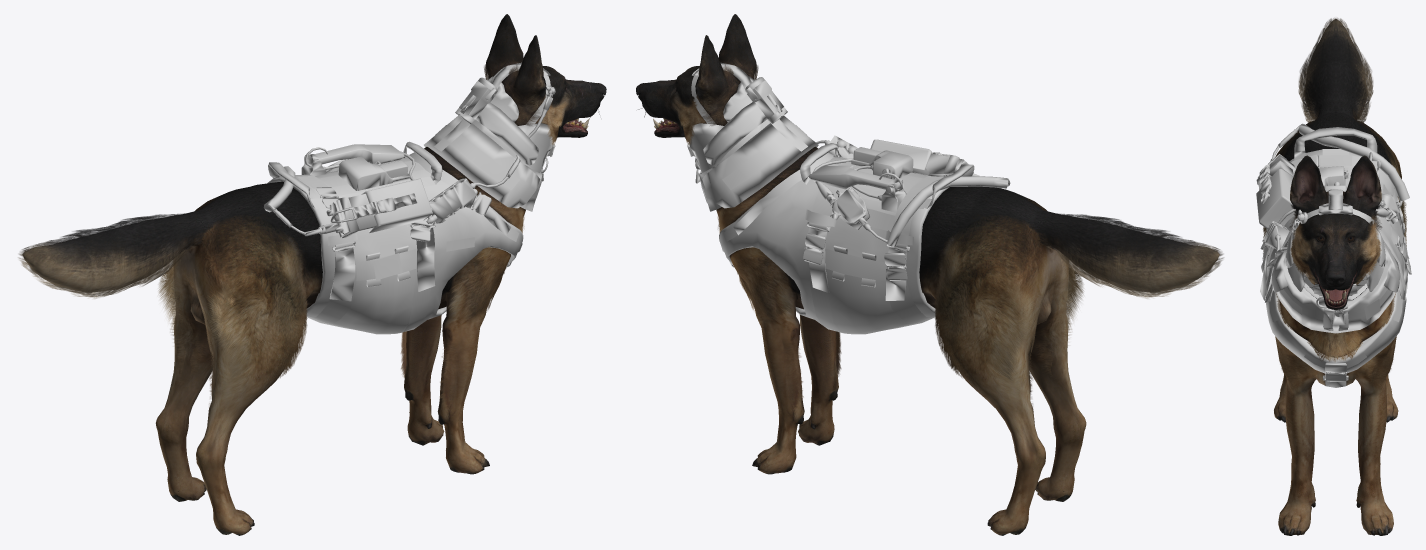
The picture shows the model from 3 angles, left to right: view 1: azimuth 30°, elevation 25°; view 2: azimuth 150°, elevation 25°; view 3: azimuth 270°, elevation 25°; orthographic projection.
Visible parts, largest first — view 1: fullbody_dog_a_LOD_0_0; view 2: fullbody_dog_a_LOD_0_0; view 3: fullbody_dog_a_LOD_0_0.
Boxes of the visible parts, box(x1,y1,x2,y2) form: fullbody_dog_a_LOD_0_0: box(18, 14, 606, 535); fullbody_dog_a_LOD_0_0: box(636, 14, 1223, 535); fullbody_dog_a_LOD_0_0: box(1256, 18, 1411, 535).
Size of what is drawn, in the model's own units: 1.83 by 1.24 by 0.4202.
